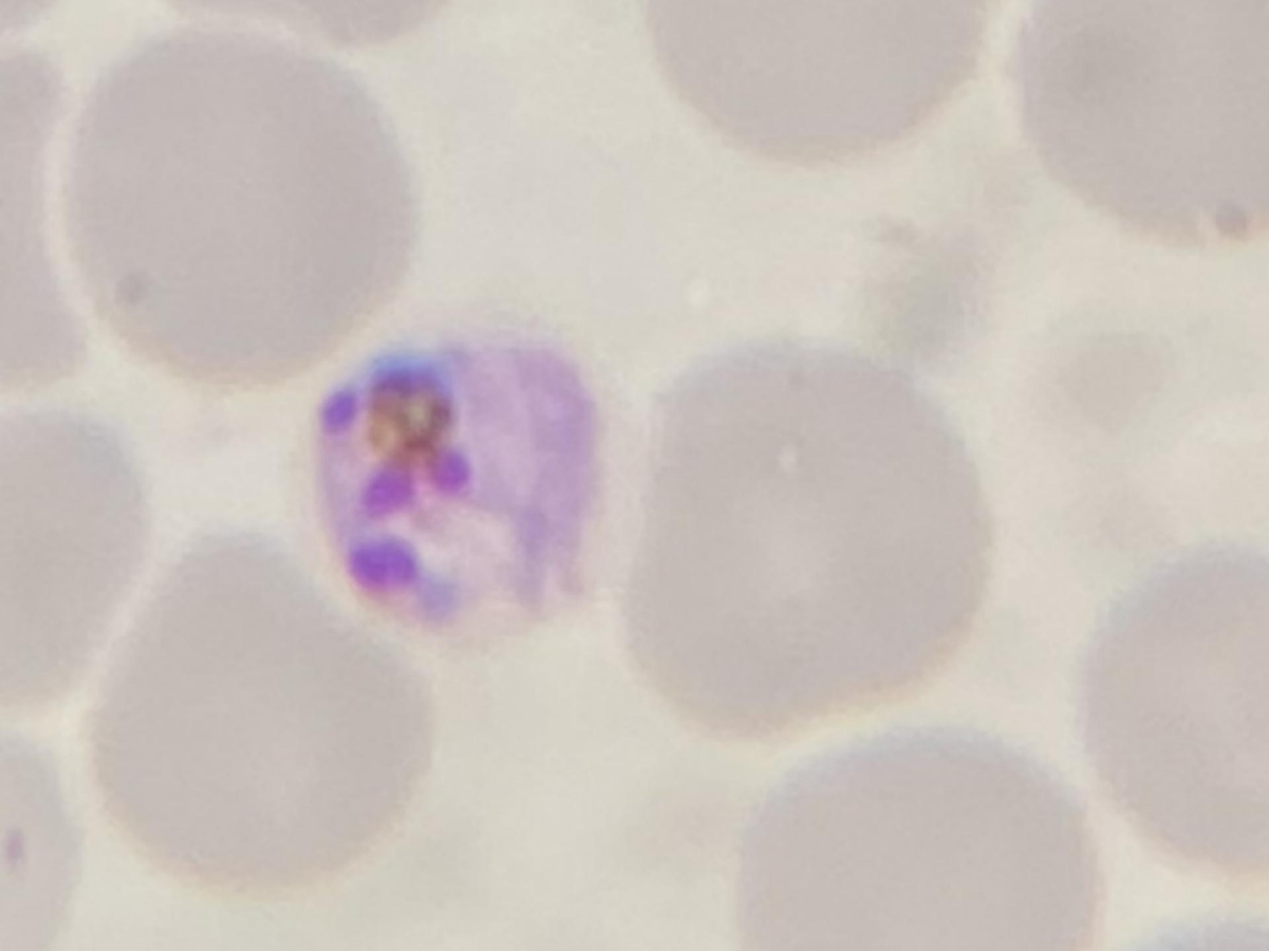Infected: (311, 318, 608, 656)
Uninfected: (626, 336, 1013, 743), (57, 27, 419, 395), (82, 534, 427, 885), (727, 721, 1107, 951), (1075, 538, 1269, 903), (1027, 0, 1269, 262), (626, 0, 976, 181)
